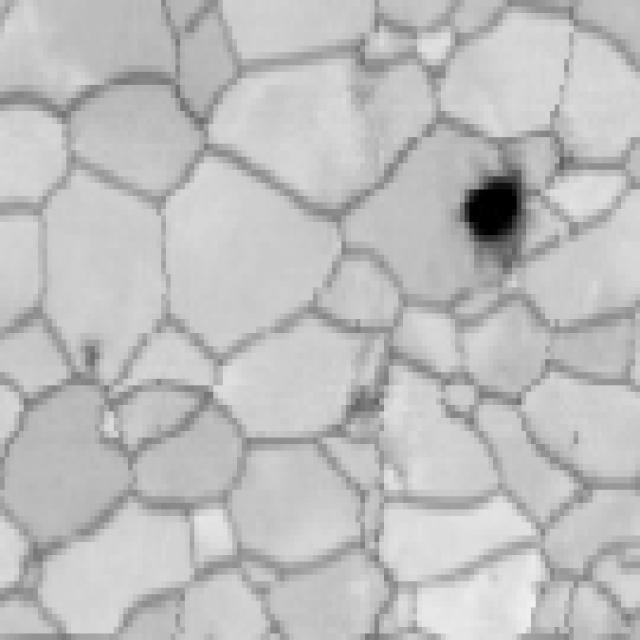good_void: (445, 169, 534, 257), (337, 62, 392, 128), (342, 379, 388, 429), (560, 415, 596, 469), (78, 338, 108, 373)
